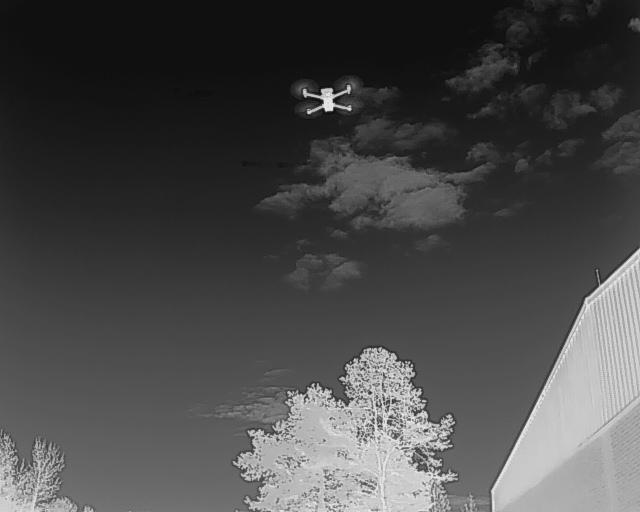drone: (298, 81, 361, 126)
